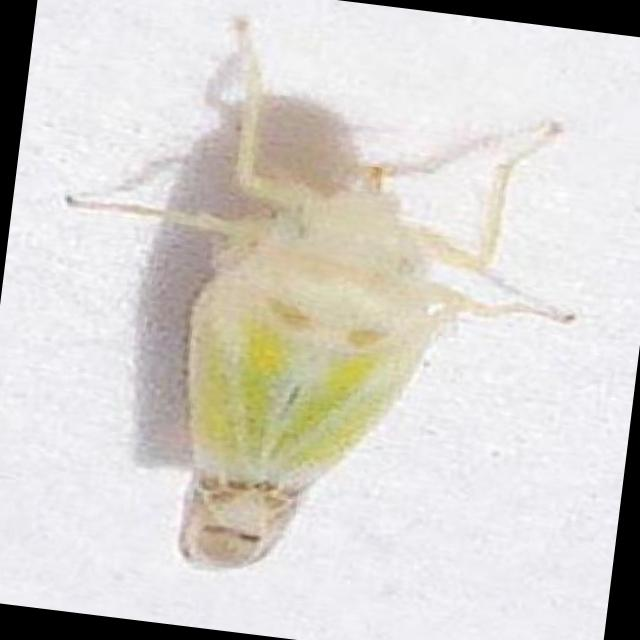green-leafhopper: (46, 49, 570, 604)
